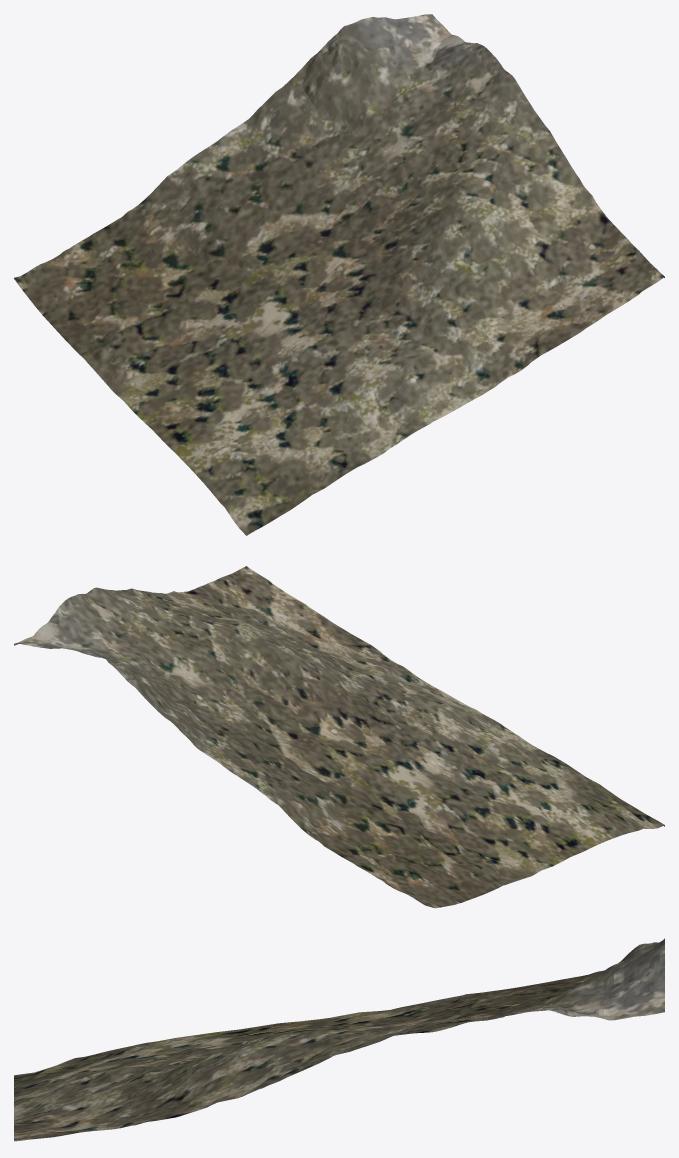
3 renders of one model, top to bottom at view 1: azimuth 30°, elevation 25°; view 2: azimuth 150°, elevation 25°; view 3: azimuth 270°, elevation 25°, orthographic. The views are drawn at different scales.
Size of the model in its own units: 250 by 150 by 241.
Materials: 1 (1 with a texture image).
